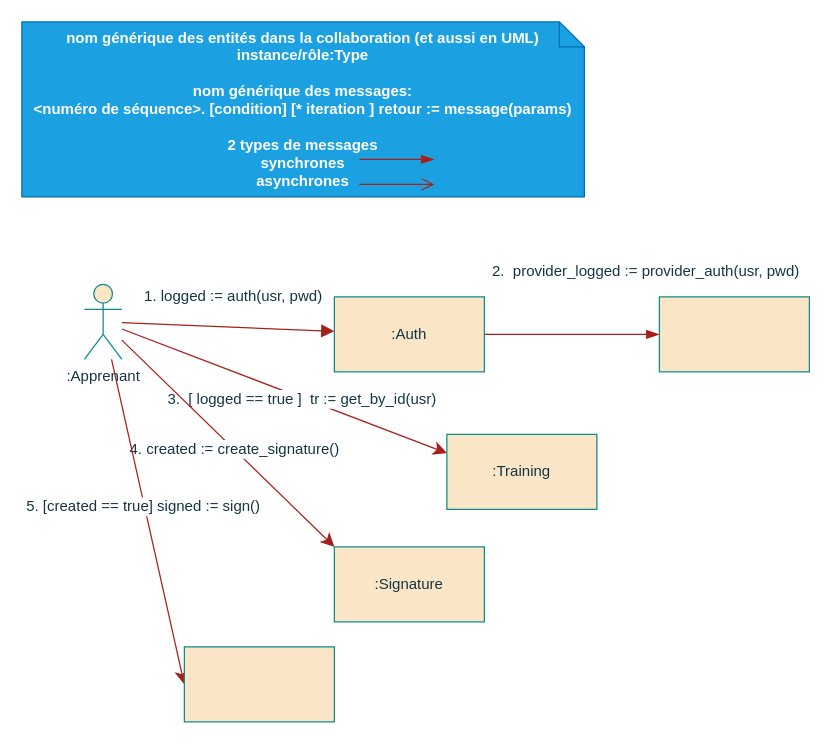
Some shapes in this 831 by 744 pixel diagram are drawn without their labels. Here are the shapes that lost their labels. From the top down, the centre of each, then its label:
At [733,334]: ":AuthProvider".
At [258,684]: ":Presence".
